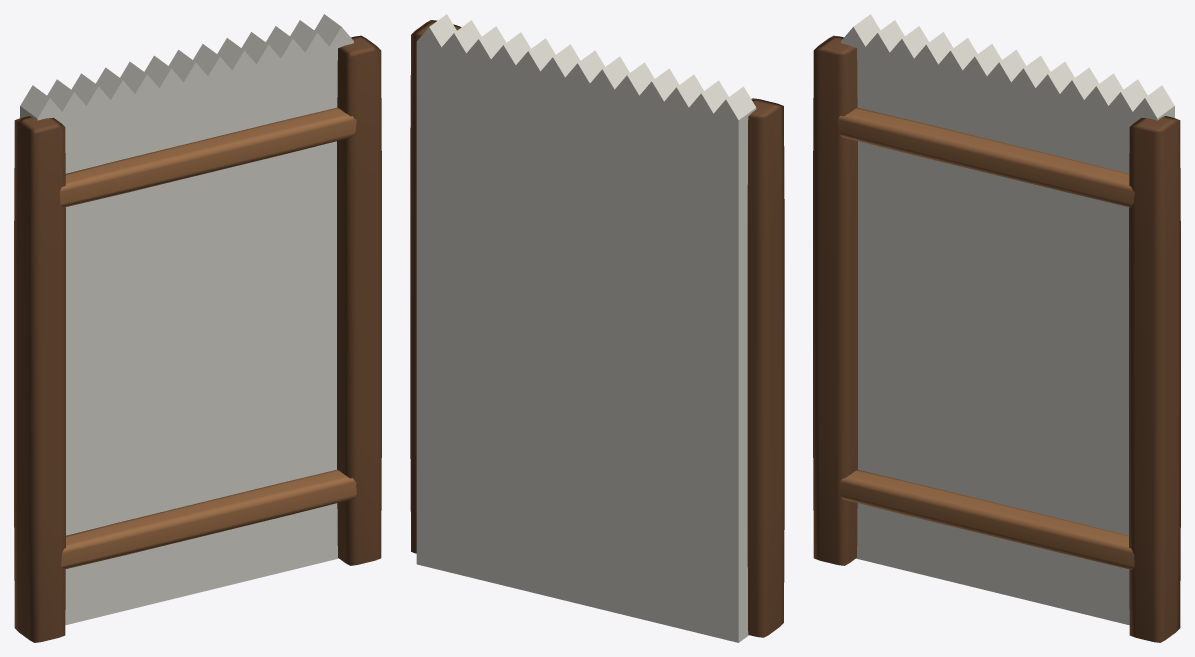
Rendered from HotPotatoFence.obj.
3 views of the same model, side by side, from view 1: azimuth 30°, elevation 25°; view 2: azimuth 150°, elevation 25°; view 3: azimuth 330°, elevation 25° (orthographic).
Visible parts, largest first — view 1: Pickets, Posts, Rails; view 2: Pickets, Posts; view 3: Pickets, Posts, Rails.
Boxes of the visible parts, bbox=[...] form: Pickets: bbox=[20, 14, 353, 625]; Posts: bbox=[14, 35, 381, 642]; Rails: bbox=[59, 107, 356, 569]; Pickets: bbox=[416, 14, 756, 642]; Posts: bbox=[410, 20, 784, 637]; Pickets: bbox=[841, 14, 1174, 625]; Posts: bbox=[813, 35, 1180, 642]; Rails: bbox=[837, 107, 1134, 569].
Size of the model in its own units: 9.3 by 13.5 by 1.41.
